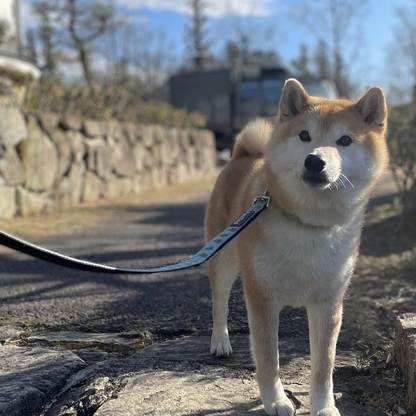shiba: (193, 74, 393, 416)
